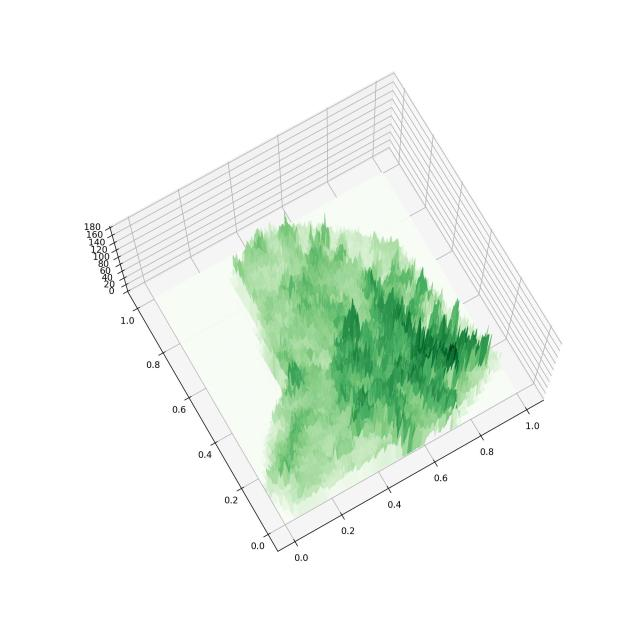spruce: (59, 54, 595, 590)
